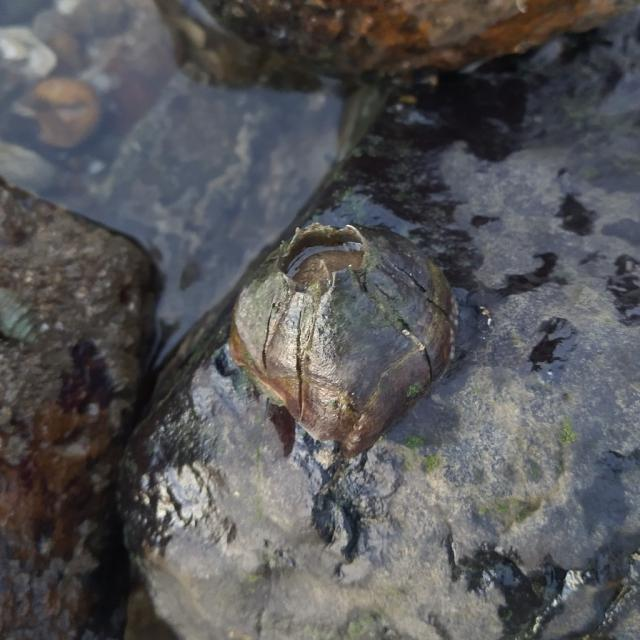barnacles: (213, 213, 457, 458)
